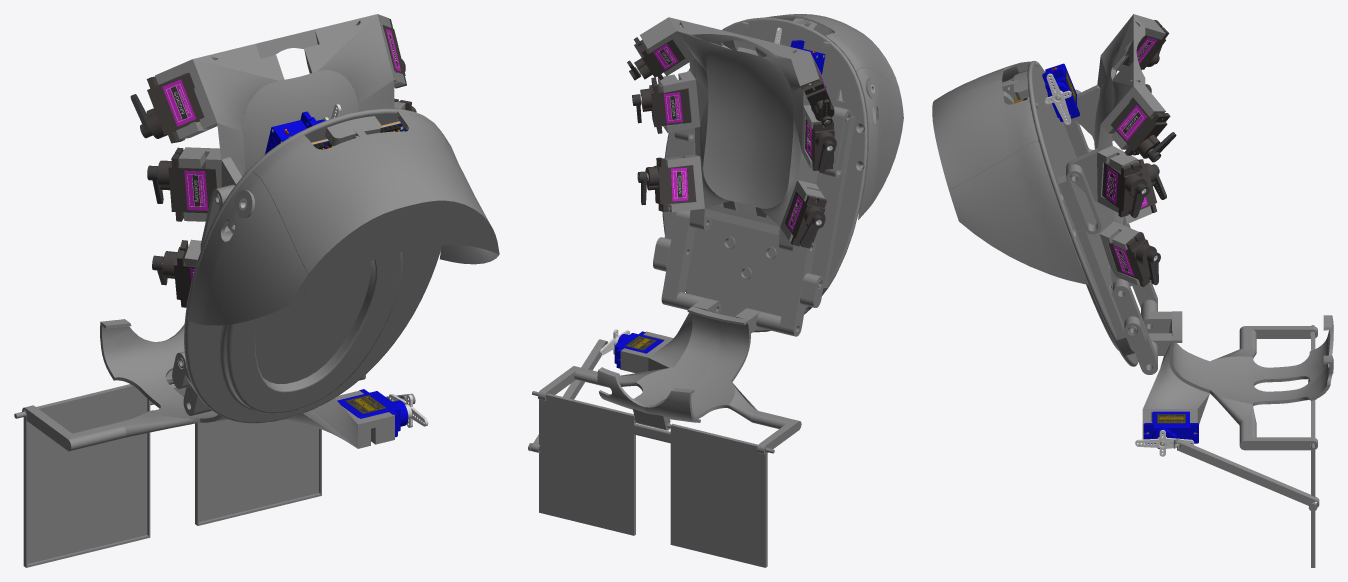
3 views of the same model, side by side, from view 1: azimuth 30°, elevation 25°; view 2: azimuth 150°, elevation 25°; view 3: azimuth 270°, elevation 25° (orthographic). The views are drawn at different scales.
Parts seen in each view (by area): view 1: m110, m533, m530, m529, m100, m109, m108, m107, m106, m34, m127, m12 (+9 smaller); view 2: m110, m533, m100, m109, m529, m530, m107, m122, m124, m106, m108, m45 (+20 smaller); view 3: m529, m530, m533, m109, m119, m117, m122, m129, m56, m108, m128, m1 (+19 smaller).
Boxes of the visible parts, x1,y1,x2,y2 form: m110: (14,377,321,567); m533: (172,108,441,423); m530: (252,111,492,294); m529: (187,130,499,325); m100: (242,70,358,173); m109: (100,319,228,422); m108: (193,14,376,80); m107: (193,59,277,176); m106: (318,14,394,111); m34: (146,72,204,143); m127: (22,405,126,451); m12: (157,147,216,221); m110: (528,391,774,567); m533: (653,17,867,332); m100: (703,47,793,208); m109: (597,298,760,422); m529: (838,67,903,219); m530: (742,14,898,86); m107: (759,56,818,226); m122: (661,210,704,310); m124: (756,241,822,336); m106: (677,24,732,208); m108: (669,17,809,58); m45: (645,157,696,211); m529: (949,77,1087,284); m530: (932,61,1038,190); m533: (1002,61,1146,366); m109: (1142,311,1333,406); m119: (1143,329,1209,424); m117: (1173,439,1319,507); m122: (1112,279,1157,374); m129: (1058,164,1101,234); m56: (1111,97,1170,158); m108: (1112,14,1145,85); m128: (1239,419,1317,450); m1: (1102,162,1147,217).
Bounding box in the file's own units: 172 × 298 × 235.
